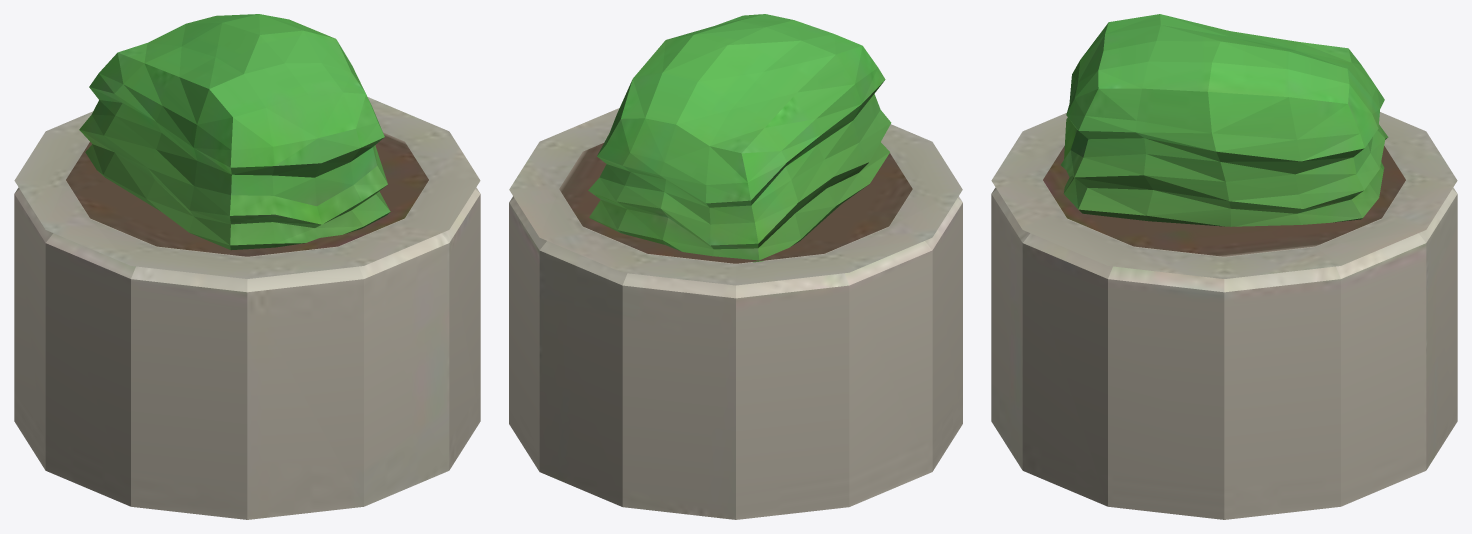
The model's file is gate_planter_bush.glb.
3 renders of one model, left to right at view 1: azimuth 30°, elevation 25°; view 2: azimuth 150°, elevation 25°; view 3: azimuth 270°, elevation 25°, orthographic. The views are drawn at different scales.
Parts seen in each view (by area): view 1: gate_planter_bush; view 2: gate_planter_bush; view 3: gate_planter_bush.
Boxes of the visible parts, box(x1,y1,x2,y2) form: gate_planter_bush: box(14, 14, 480, 519); gate_planter_bush: box(509, 14, 962, 519); gate_planter_bush: box(991, 14, 1457, 519).
Size of the model in its own units: 0.68 by 0.62 by 0.68.
1 material, 1 textured.
